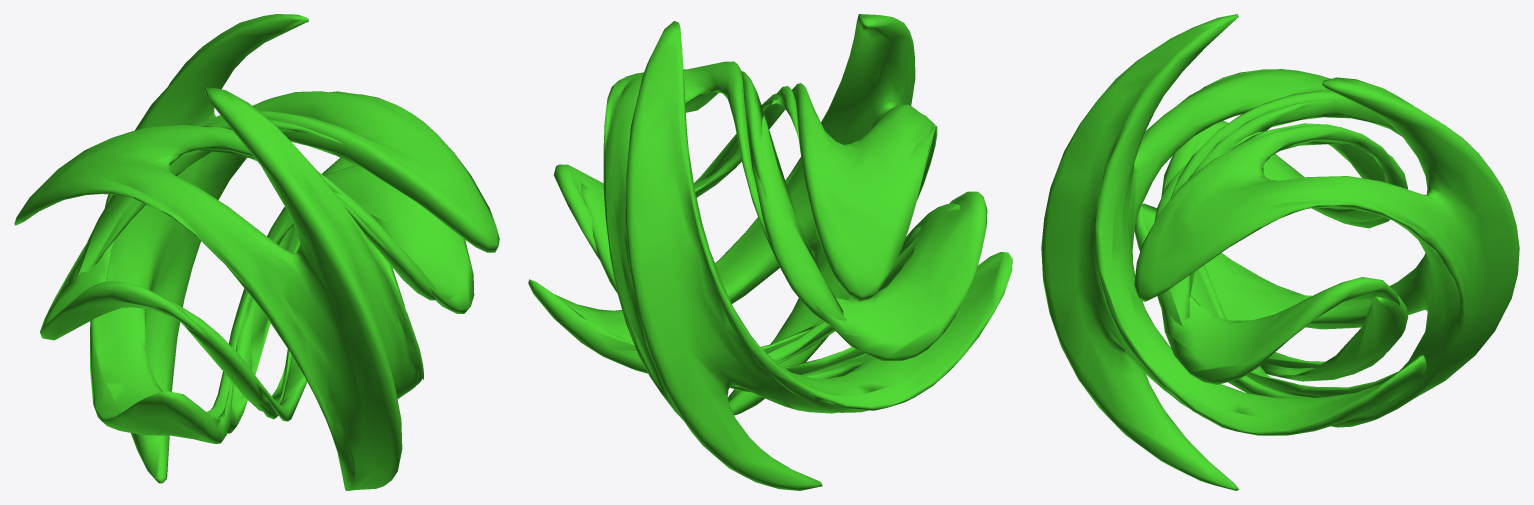
The picture shows the model from 3 angles, left to right: view 1: azimuth 30°, elevation 25°; view 2: azimuth 150°, elevation 25°; view 3: azimuth 270°, elevation 25°; orthographic projection. The views are drawn at different scales.
Parts seen in each view (by area): view 1: Torus; view 2: Torus; view 3: Torus.
Boxes of the visible parts, box(x1,y1,x2,y2) form: Torus: box(14, 14, 499, 490); Torus: box(528, 14, 1012, 490); Torus: box(1041, 14, 1519, 490).
Size of what is drawn, in the model's own units: 2.51 by 2.58 by 2.73.
